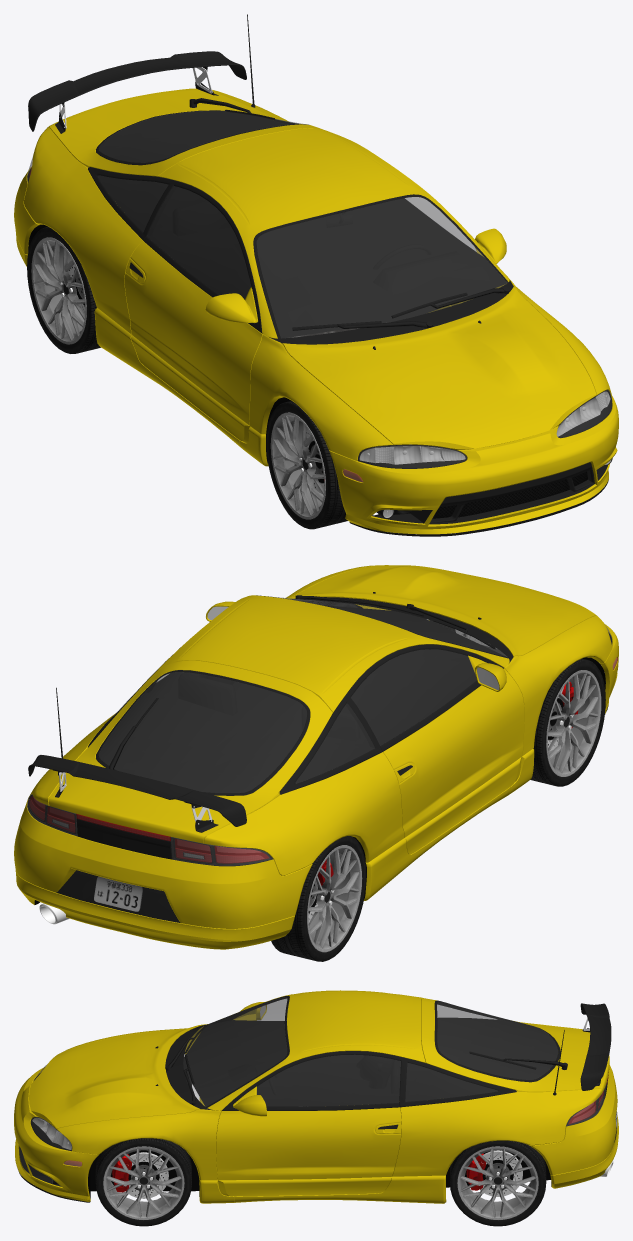
The model's file is kite.glb.
The picture shows the model from 3 angles, top to bottom: view 1: azimuth 30°, elevation 25°; view 2: azimuth 150°, elevation 25°; view 3: azimuth 270°, elevation 25°; orthographic projection. The views are drawn at different scales.
Visible parts, largest first — view 1: Body, Glass, Interior, Details, WH_RR_Azura_Alloy_0, WH_FR_Azura_Alloy_0, WH_FR_Azura_Tire_0, WH_RR_Azura_Tire_0; view 2: Body, Glass, Interior, Details, WH_RR_Azura_Alloy_0, WH_FR_Azura_Alloy_0, WH_RR_Azura_Tire_0, WH_FR_Azura_Tire_0; view 3: Body, Glass, Interior, Details, WH_RL_Azura_Alloy_0, WH_FL_Azura_Alloy_0, WH_FL_Azura_Tire_0, WH_RL_Azura_Tire_0, WH_FL_Azura_Textures_0, WH_RL_Azura_Textures_0.
Boxes of the visible parts, x1,y1,x2,y2 form: Body: (14, 88, 618, 534); Glass: (29, 110, 612, 517); Interior: (98, 110, 507, 338); Details: (27, 14, 612, 536); WH_RR_Azura_Alloy_0: (31, 237, 86, 344); WH_FR_Azura_Alloy_0: (270, 412, 325, 519); WH_FR_Azura_Tire_0: (266, 400, 347, 529); WH_RR_Azura_Tire_0: (27, 226, 100, 353); Body: (14, 565, 618, 949); Glass: (29, 595, 617, 863); Interior: (98, 605, 505, 793); Details: (27, 592, 612, 924); WH_RR_Azura_Alloy_0: (307, 845, 362, 952); WH_FR_Azura_Alloy_0: (546, 670, 601, 776); WH_RR_Azura_Tire_0: (271, 836, 366, 961); WH_FR_Azura_Tire_0: (530, 658, 605, 786); Body: (14, 990, 618, 1203); Glass: (30, 997, 608, 1182); Interior: (183, 997, 558, 1106); Details: (18, 996, 617, 1202); WH_RL_Azura_Alloy_0: (457, 1146, 538, 1219); WH_FL_Azura_Alloy_0: (103, 1146, 184, 1219); WH_FL_Azura_Tire_0: (95, 1138, 191, 1226); WH_RL_Azura_Tire_0: (450, 1140, 546, 1226); WH_FL_Azura_Textures_0: (112, 1152, 168, 1198); WH_RL_Azura_Textures_0: (466, 1150, 522, 1196).
Size of the model in its own units: 1.47 by 1.18 by 3.55.
10 materials, 3 textured.
